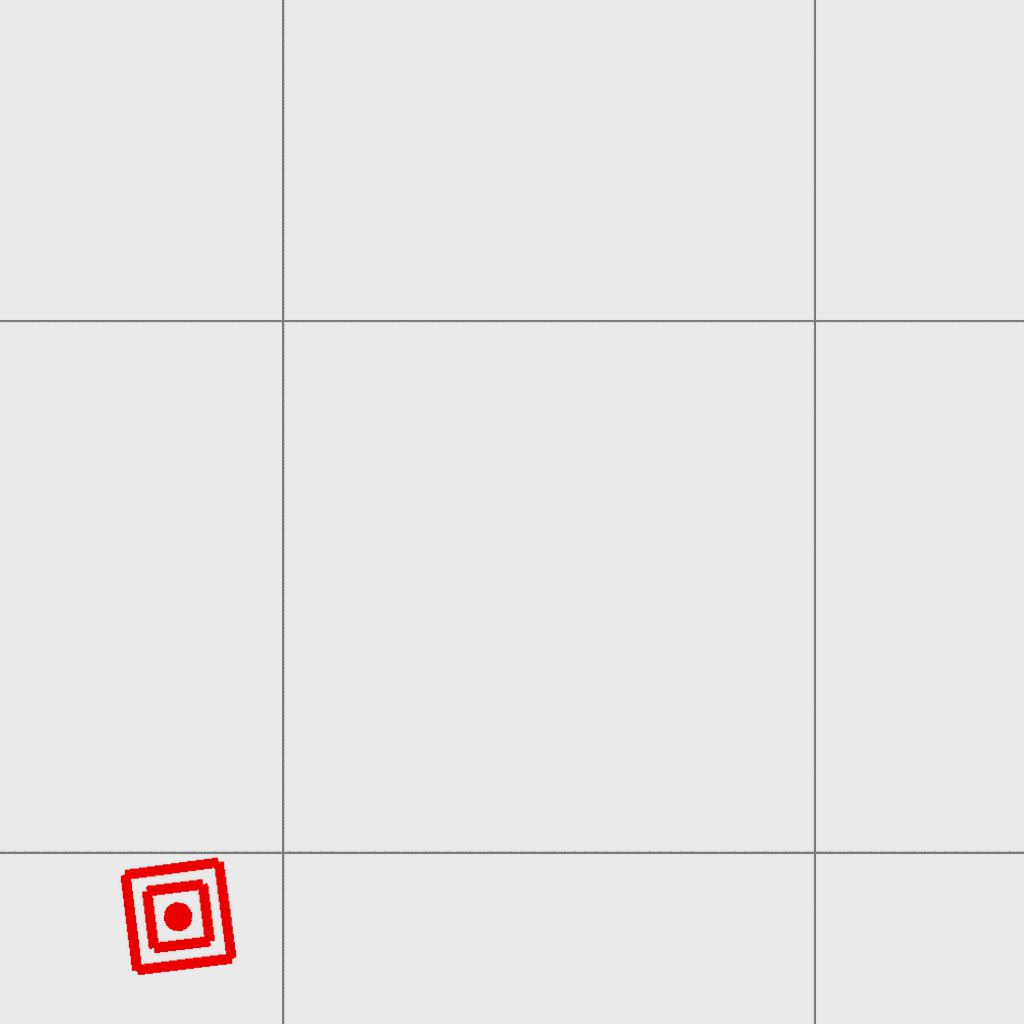NAM-Nichtautomatischer_Melder: (115, 853, 242, 980)
